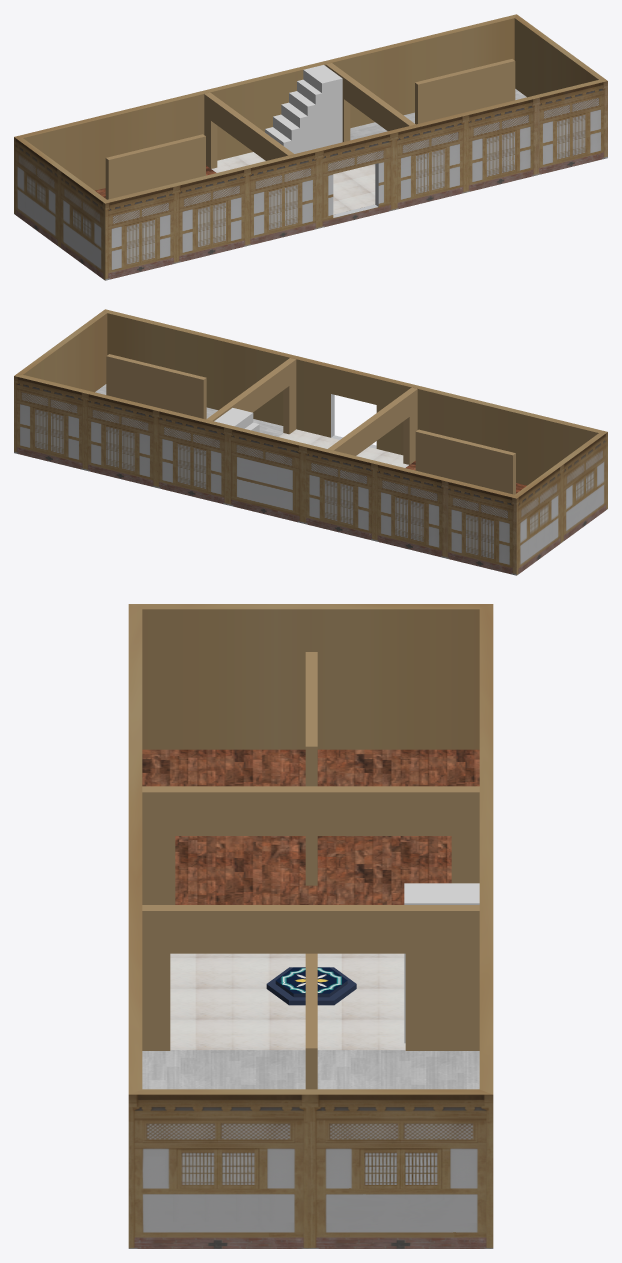
The model's file is interior1F.fbx.
3 views of the same model, one above another, from view 1: azimuth 30°, elevation 25°; view 2: azimuth 150°, elevation 25°; view 3: azimuth 270°, elevation 25° (orthographic). The views are drawn at different scales.
Visible parts, largest first — view 1: Cube.003, Cube, Cube.004, Cube.002, Cube.001, Cube.007; view 2: Cube.003, Cube.002, Cube.004, Cube.001, Cube.007, Cube; view 3: Cube.003, Cube.007, Cube.001, Cube.004, Info, Cube, Cube.002.
Part boxes in pixels (x1=…): Cube.003: x1=14, y1=14, x2=607, y2=280; Cube: x1=265, y1=65, x2=342, y2=153; Cube.004: x1=105, y1=134, x2=205, y2=199; Cube.002: x1=415, y1=59, x2=515, y2=124; Cube.001: x1=204, y1=92, x2=293, y2=168; Cube.007: x1=325, y1=63, x2=415, y2=141; Cube.003: x1=14, y1=309, x2=607, y2=575; Cube.002: x1=106, y1=354, x2=206, y2=419; Cube.004: x1=415, y1=429, x2=515, y2=494; Cube.001: x1=328, y1=387, x2=417, y2=464; Cube.007: x1=206, y1=358, x2=296, y2=434; Cube: x1=214, y1=408, x2=259, y2=432; Cube.003: x1=128, y1=604, x2=493, y2=1248; Cube.007: x1=142, y1=905, x2=479, y2=1050; Cube.001: x1=142, y1=786, x2=479, y2=904; Cube.004: x1=305, y1=652, x2=317, y2=885; Info: x1=266, y1=967, x2=356, y2=1005; Cube: x1=404, y1=883, x2=479, y2=1043; Cube.002: x1=305, y1=953, x2=317, y2=1089.
Bounding box in the file's own units: 24808 × 3634 × 7794.
Materials: 8 (4 with a texture image).
